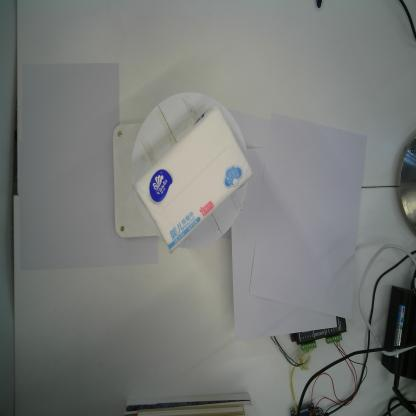Tissue: (134, 103, 253, 256)
